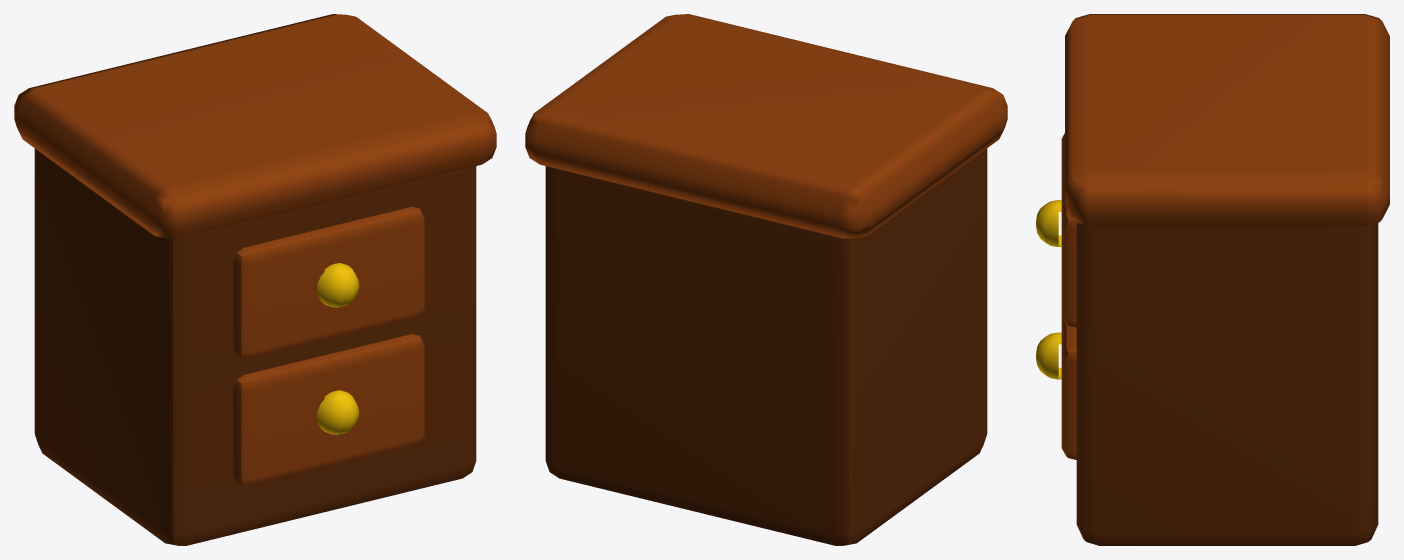
File: BedsideTable.fbx
The picture shows the model from 3 angles, left to right: view 1: azimuth 30°, elevation 25°; view 2: azimuth 150°, elevation 25°; view 3: azimuth 270°, elevation 25°; orthographic projection. The views are drawn at different scales.
Parts seen in each view (by area): view 1: BedsideTable; view 2: BedsideTable; view 3: BedsideTable.
Boxes of the visible parts, x1=… form: BedsideTable: x1=14, y1=14, x2=496, y2=545; BedsideTable: x1=525, y1=14, x2=1007, y2=545; BedsideTable: x1=1036, y1=14, x2=1389, y2=545.
Bounding box in the file's own units: 1.78 × 1.81 × 1.52.
1 material, 1 textured.
